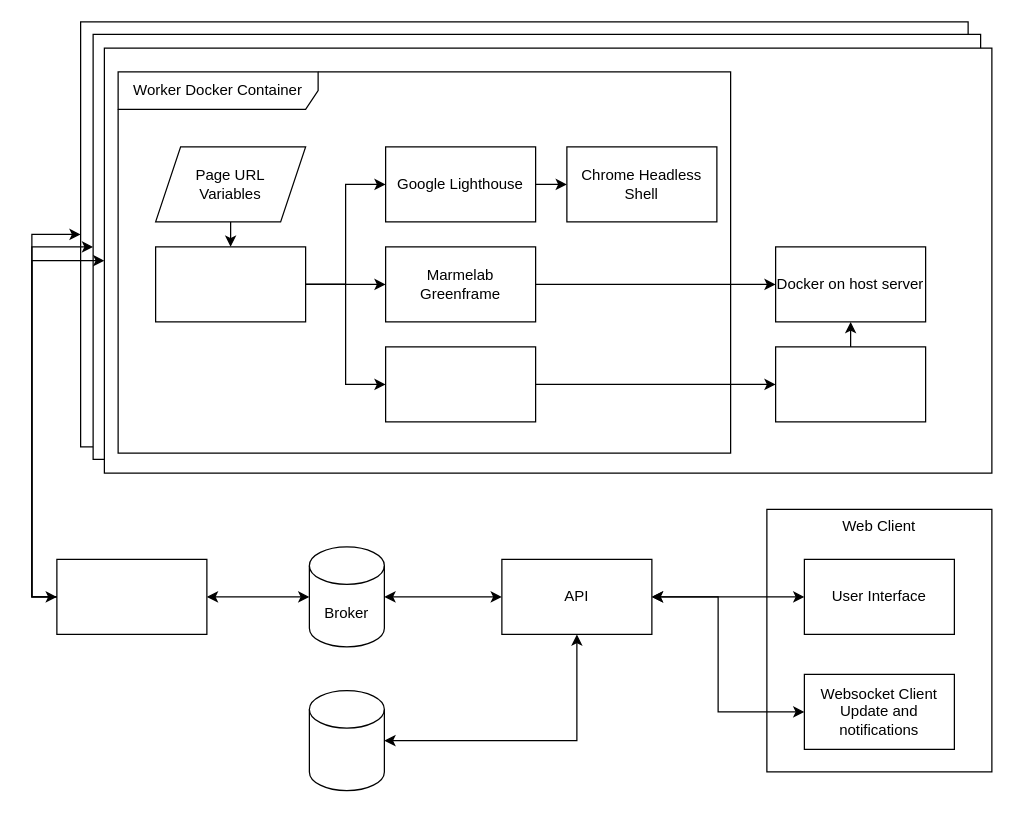
Image size: 1014x813. Some labels were removed from this diagram. Here are the shapes that lost their labels. From the top down, the centre of each, then its label:
At point (230, 284): "Woker Process Handler".
At point (460, 384): "Worker Custom Variables Processes".
At point (850, 384): "Selenium ChromeDriver Docker Container".
At point (131, 596): "Worker Pool Manager".
At point (346, 740): "Database".
